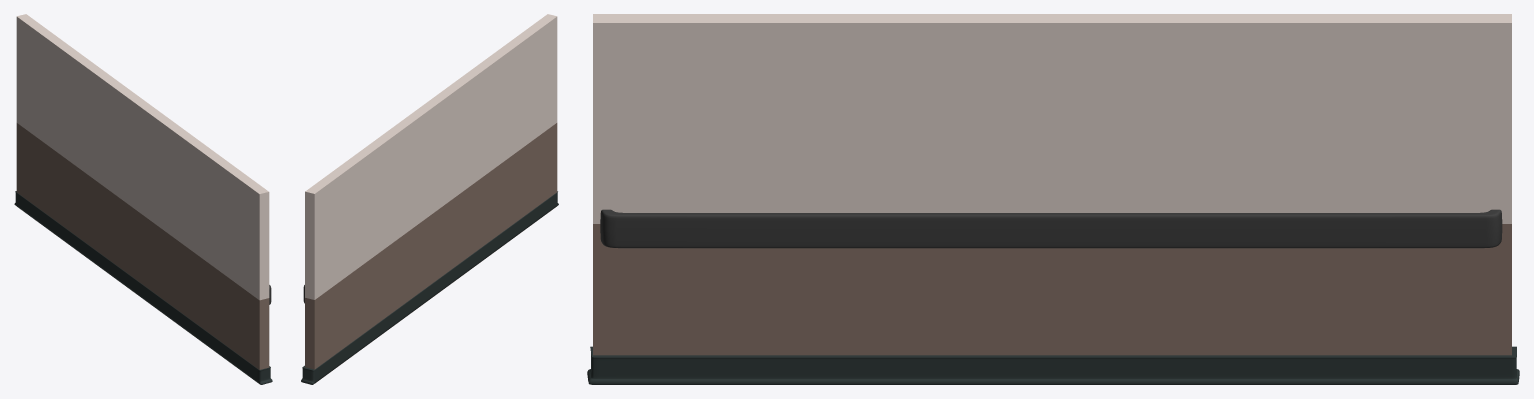
Rendered from Main Hallway Wall.fbx.
The picture shows the model from 3 angles, left to right: view 1: azimuth 30°, elevation 25°; view 2: azimuth 150°, elevation 25°; view 3: azimuth 270°, elevation 25°; orthographic projection. The views are drawn at different scales.
Visible parts, largest first — view 1: Wall, Wall_bottom_Decor; view 2: Wall, Wall_bottom_Decor; view 3: Wall, Middle_Handle, Wall_bottom_Decor.
Part boxes in pixels (box(x1,y1,x2,y2)): Wall: box(16, 14, 269, 382); Wall_bottom_Decor: box(14, 191, 272, 384); Wall: box(305, 14, 557, 383); Wall_bottom_Decor: box(301, 191, 558, 384); Wall: box(593, 14, 1511, 355); Middle_Handle: box(600, 209, 1502, 248); Wall_bottom_Decor: box(587, 346, 1519, 384).
Size of the model in its own units: 1.34 by 14.41 by 33.86.
